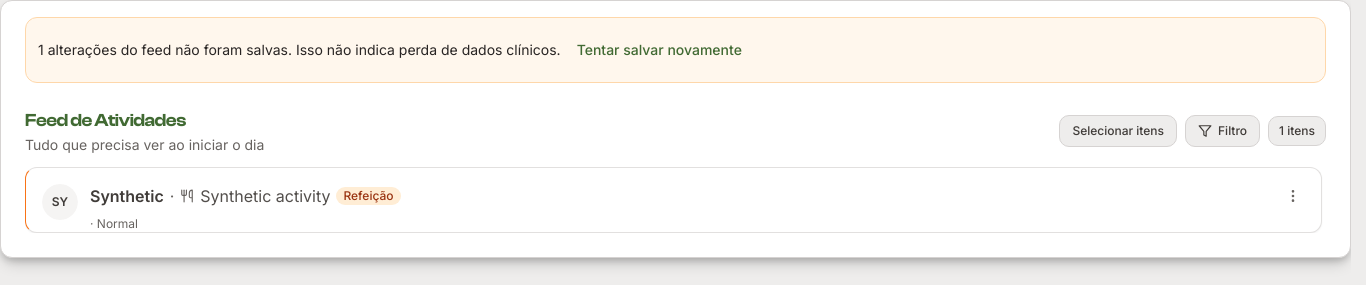
Test: Feed session and selection › clears private cards when retry context reports a confirmed denial
Expected: the text "Synthetic activity" is shown, [200, 184, 330, 208]
Click the button "Tentar salvar novamente".
click(659, 50)  # box [561, 30, 758, 70]
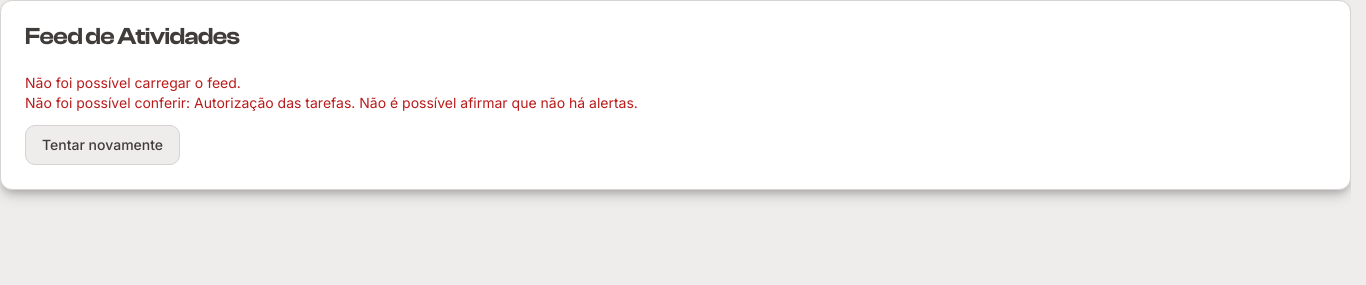
Expected: the message shows "Autorização das tarefas", [194, 94, 351, 111]
Expected: the text "Synthetic activity" is gone
